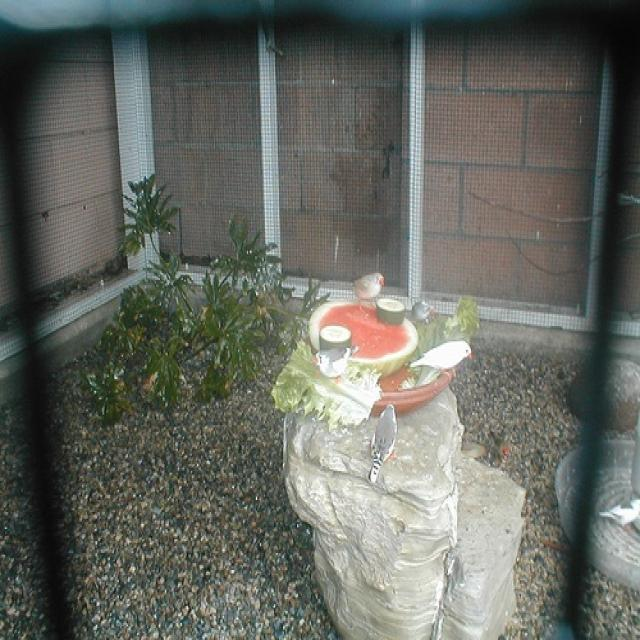bird: (407, 339, 472, 374), (369, 402, 398, 480), (353, 271, 384, 316), (602, 495, 638, 531), (408, 299, 438, 326)
